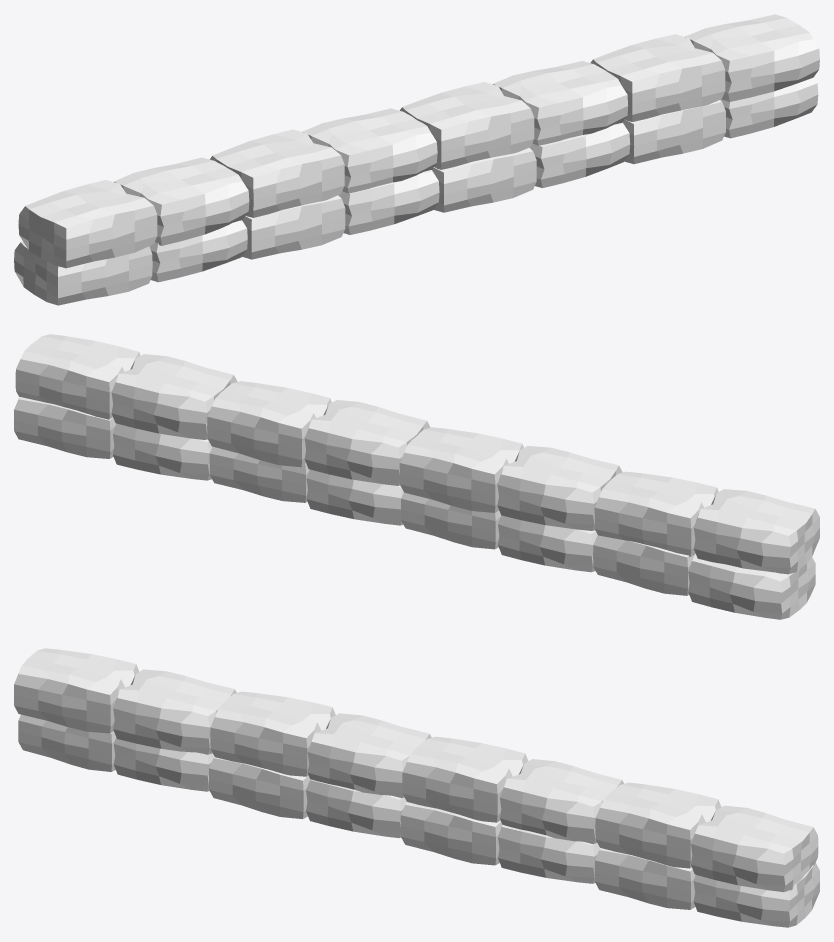
File: Steinwand2.fbx
3 views of the same model, one above another, from view 1: azimuth 30°, elevation 25°; view 2: azimuth 150°, elevation 25°; view 3: azimuth 330°, elevation 25° (orthographic).
Parts seen in each view (by area): view 1: Steinblock.034; view 2: Steinblock.034; view 3: Steinblock.034.
Part boxes in pixels (x1,y1,x2,y2): Steinblock.034: [14, 14, 819, 305]; Steinblock.034: [14, 334, 819, 619]; Steinblock.034: [14, 648, 819, 927].
Bounding box in the file's own units: 3889 × 427 × 450.
